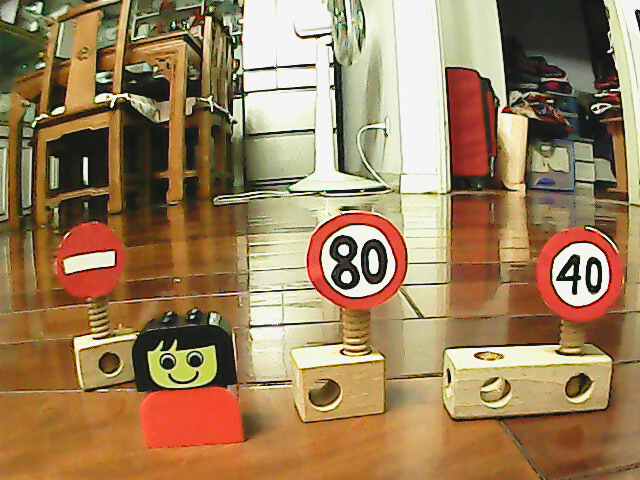Person: (132, 309, 246, 452)
Speed Limit 40: (533, 223, 628, 324)
Speed Limit 80: (303, 207, 412, 314)
Stop Sign: (51, 219, 130, 301)
